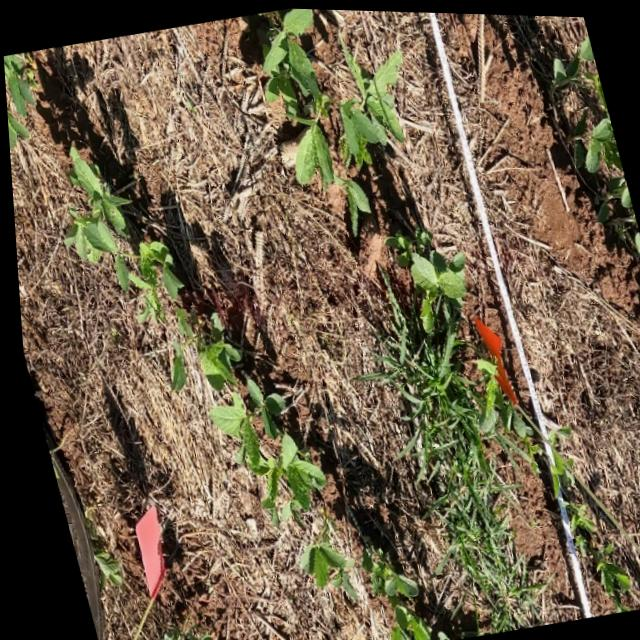grassy_weed: (371, 286, 558, 631)
soy_plant: (63, 147, 236, 389), (262, 7, 367, 230), (552, 34, 640, 283), (204, 378, 320, 522), (356, 547, 441, 640), (383, 228, 462, 328), (337, 43, 402, 163), (559, 497, 624, 609), (292, 537, 347, 596), (3, 54, 33, 145), (86, 551, 113, 586), (550, 450, 569, 488)
